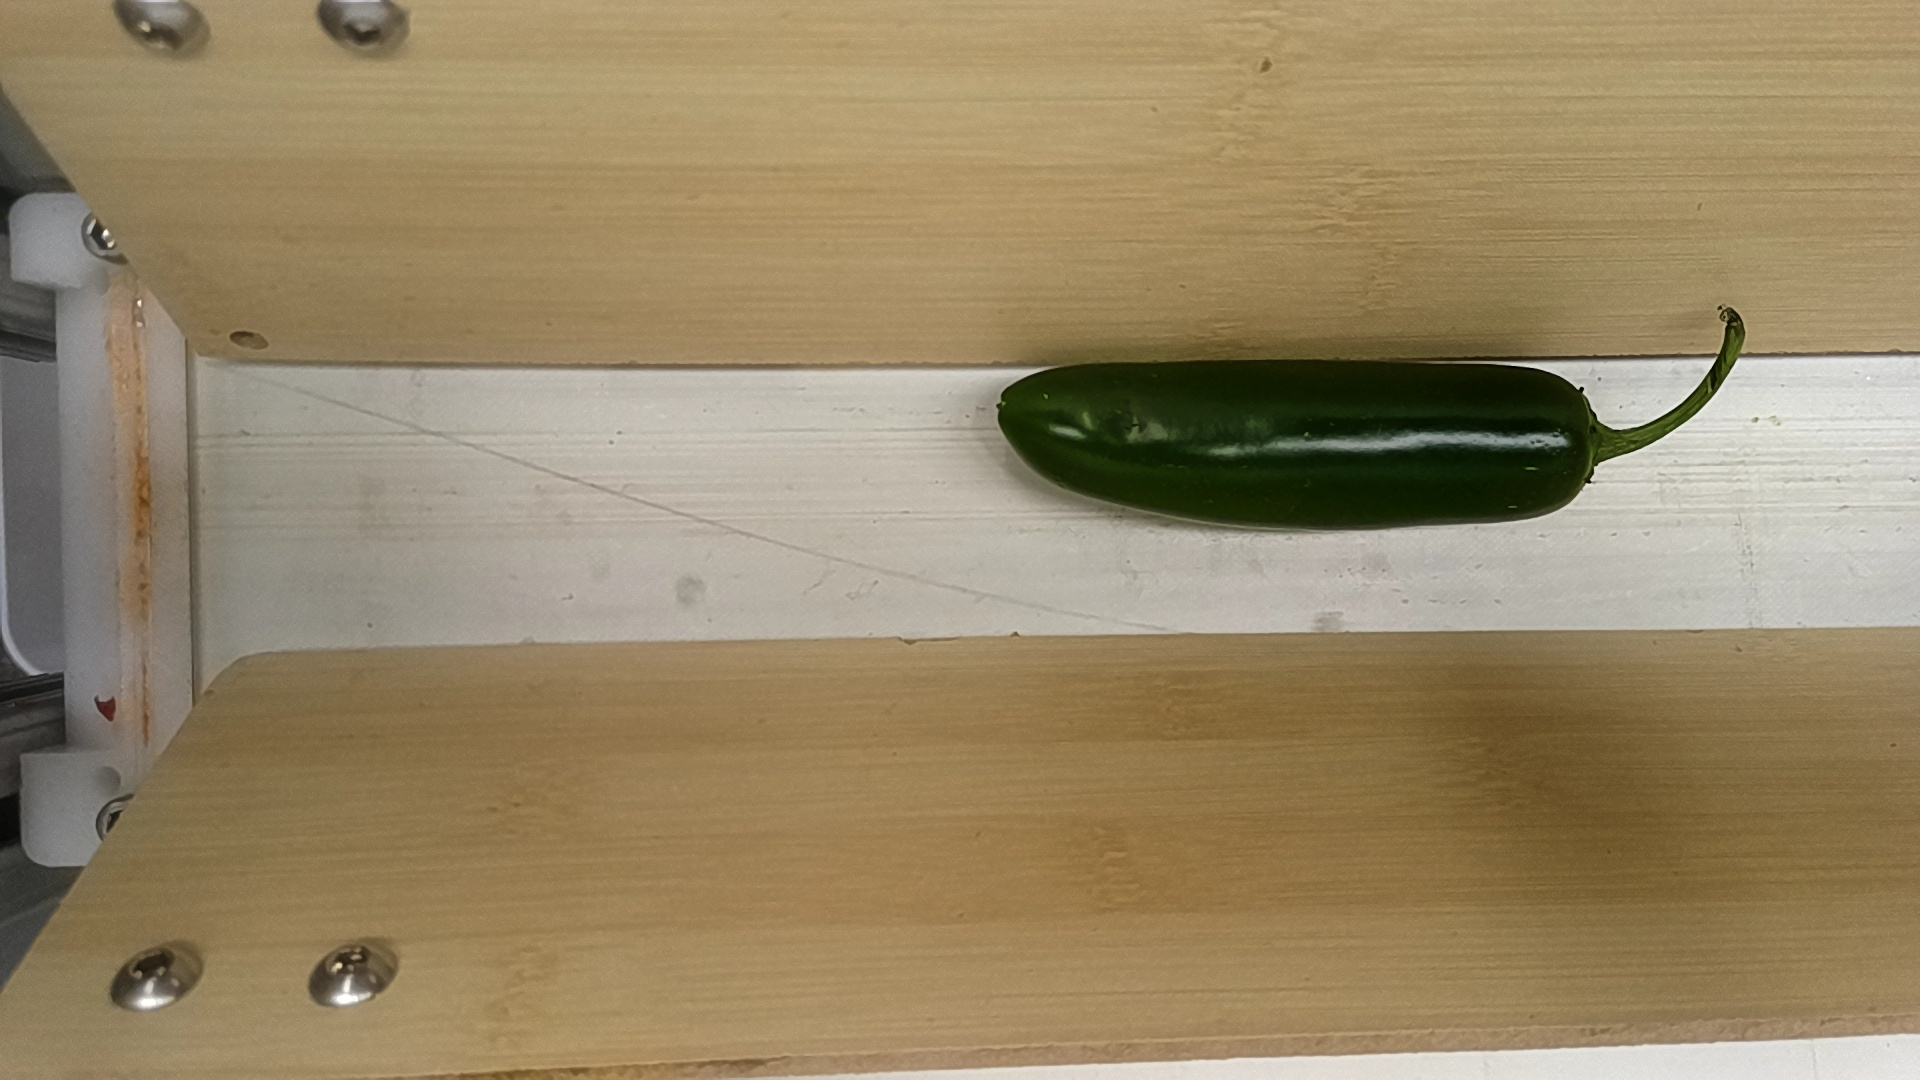Cut Point: (1538, 363, 1622, 517)
